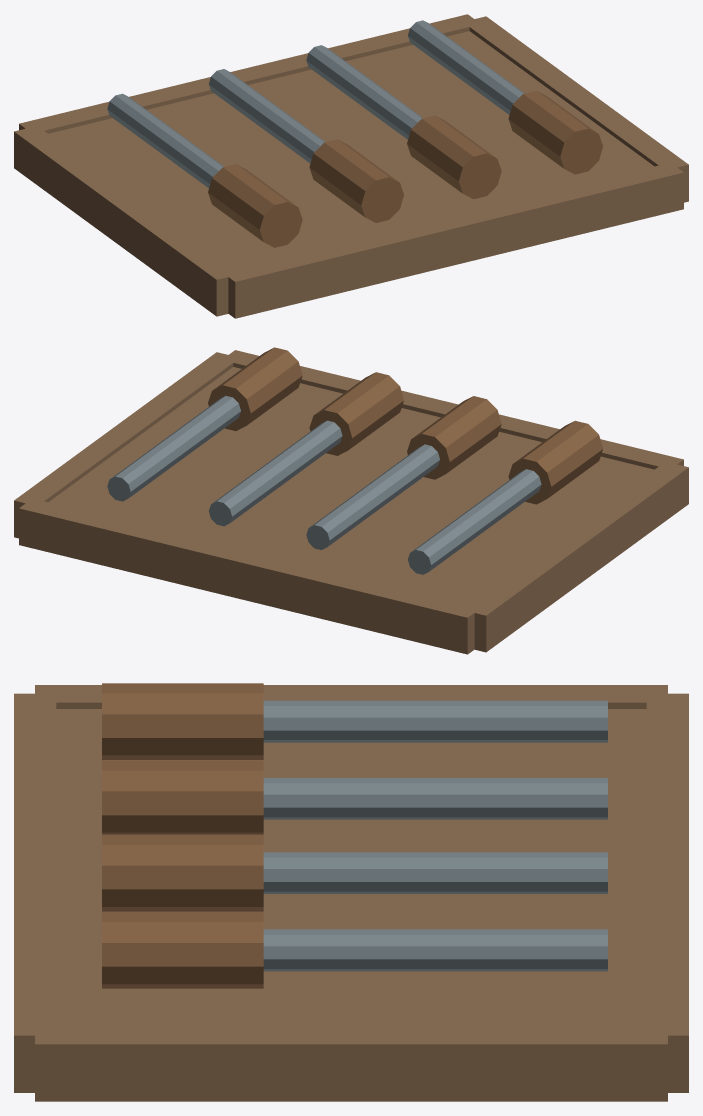
Rendered from L-24_file_set.glb.
3 renders of one model, top to bottom at view 1: azimuth 30°, elevation 25°; view 2: azimuth 150°, elevation 25°; view 3: azimuth 270°, elevation 25°, orthographic. The views are drawn at different scales.
Parts seen in each view (by area): view 1: L-24_file_set; view 2: L-24_file_set; view 3: L-24_file_set.
Boxes of the visible parts, box(x1,y1,x2,y2) form: L-24_file_set: box(14, 14, 688, 318); L-24_file_set: box(14, 347, 688, 654); L-24_file_set: box(14, 683, 688, 1101).
Size of the model in its own units: 0.242 by 0.0375 by 0.192.
